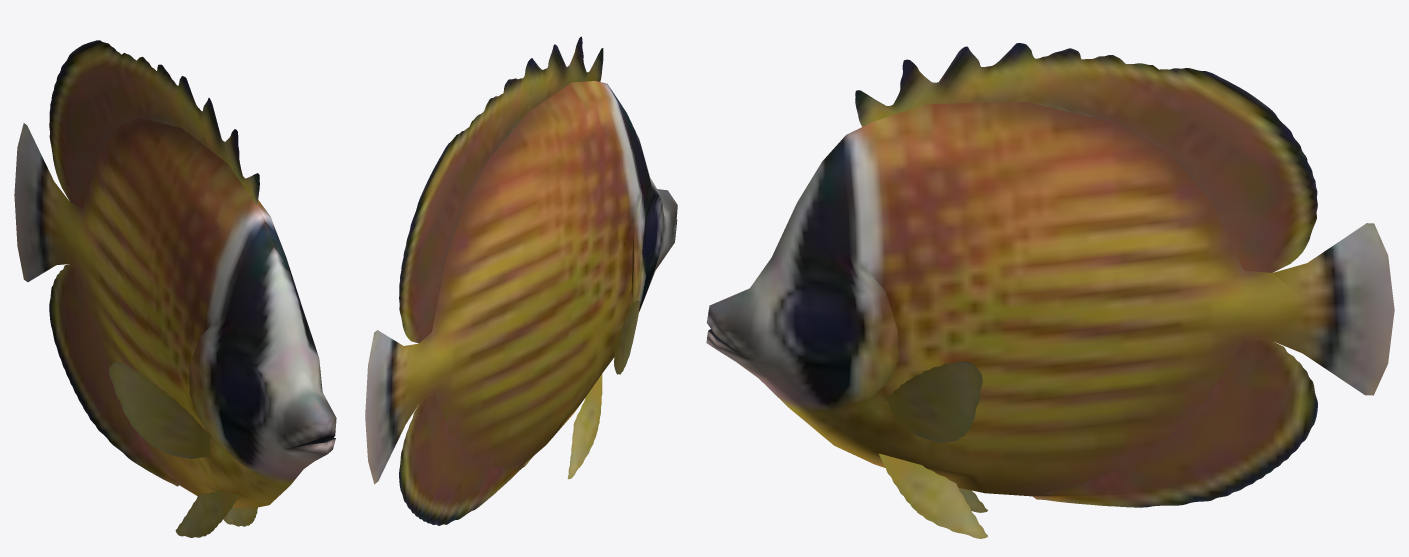
The model's file is butterfly-fish.glb.
The picture shows the model from 3 angles, left to right: view 1: azimuth 30°, elevation 25°; view 2: azimuth 150°, elevation 25°; view 3: azimuth 270°, elevation 25°; orthographic projection. The views are drawn at different scales.
Bounding box in the file's own units: 1.39 × 3.3 × 3.98.
1 material, 1 textured.
